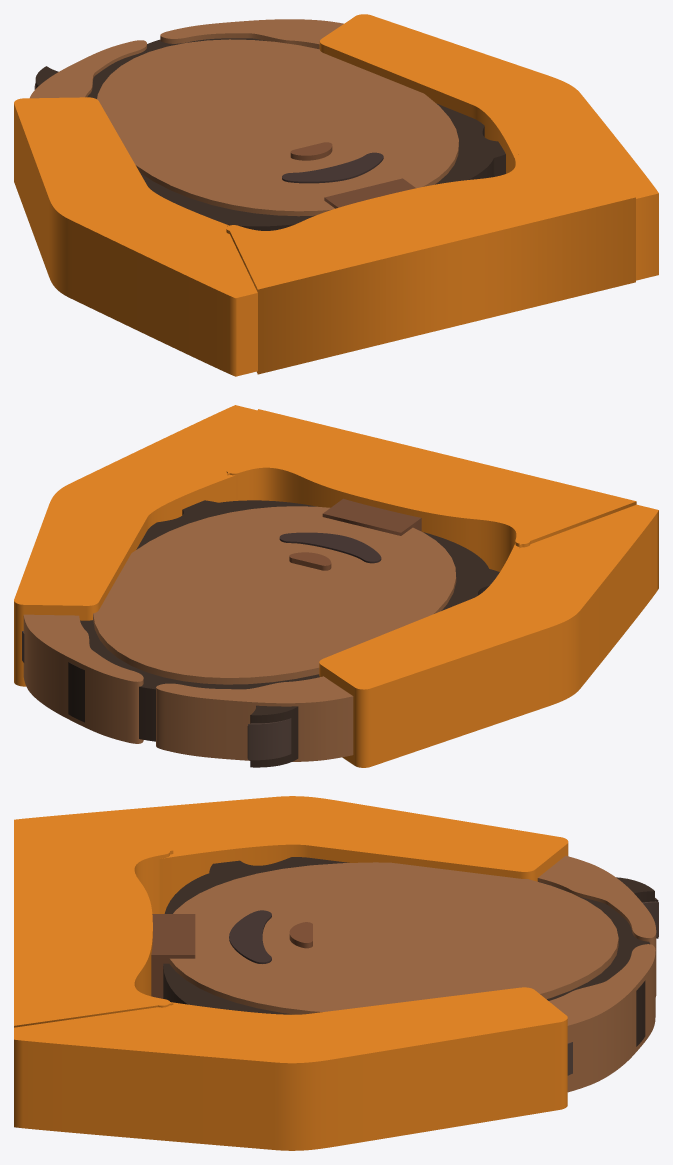
Rendered from emoji_u1f646_1f3fe.glb.
The picture shows the model from 3 angles, top to bottom: view 1: azimuth 30°, elevation 25°; view 2: azimuth 150°, elevation 25°; view 3: azimuth 270°, elevation 25°; orthographic projection. The views are drawn at different scales.
Parts seen in each view (by area): view 1: emoji_u1f646_1f3fe; view 2: emoji_u1f646_1f3fe; view 3: emoji_u1f646_1f3fe.
Part boxes in pixels (<box>): emoji_u1f646_1f3fe: <box>14,14,658,376</box>; emoji_u1f646_1f3fe: <box>14,405,658,767</box>; emoji_u1f646_1f3fe: <box>14,796,658,1150</box>.
Bounding box in the file's own units: 0.0329 × 0.0052 × 0.0333.
